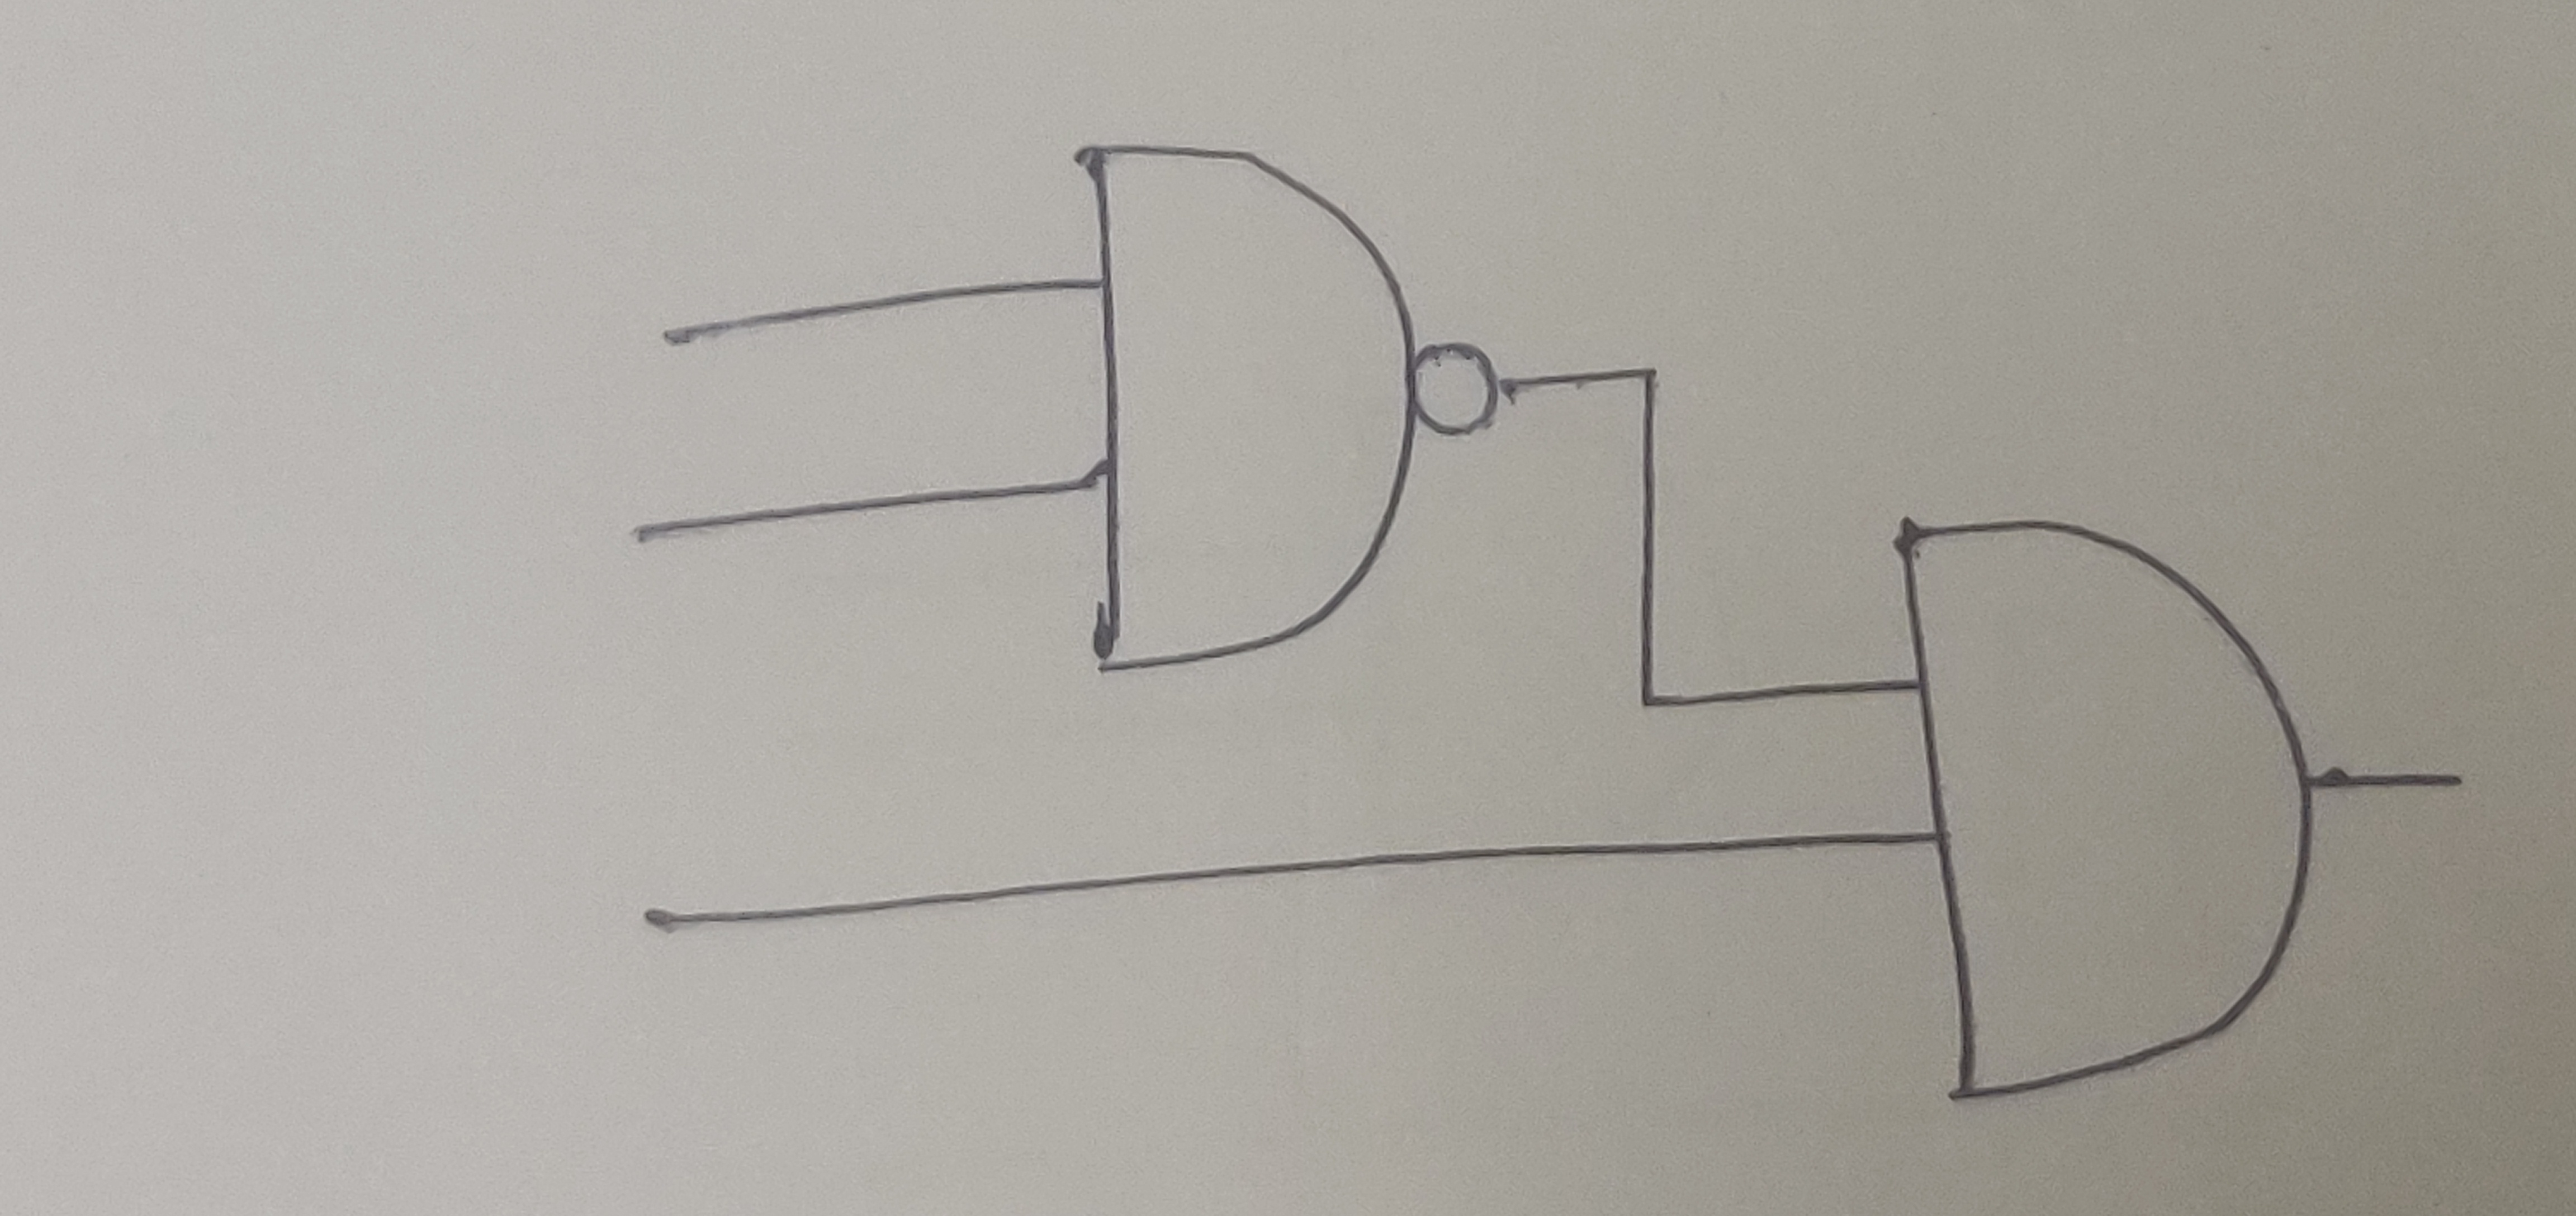and: (1889, 516, 2323, 1104), (1078, 138, 1416, 670)
not: (1410, 335, 1505, 447)
